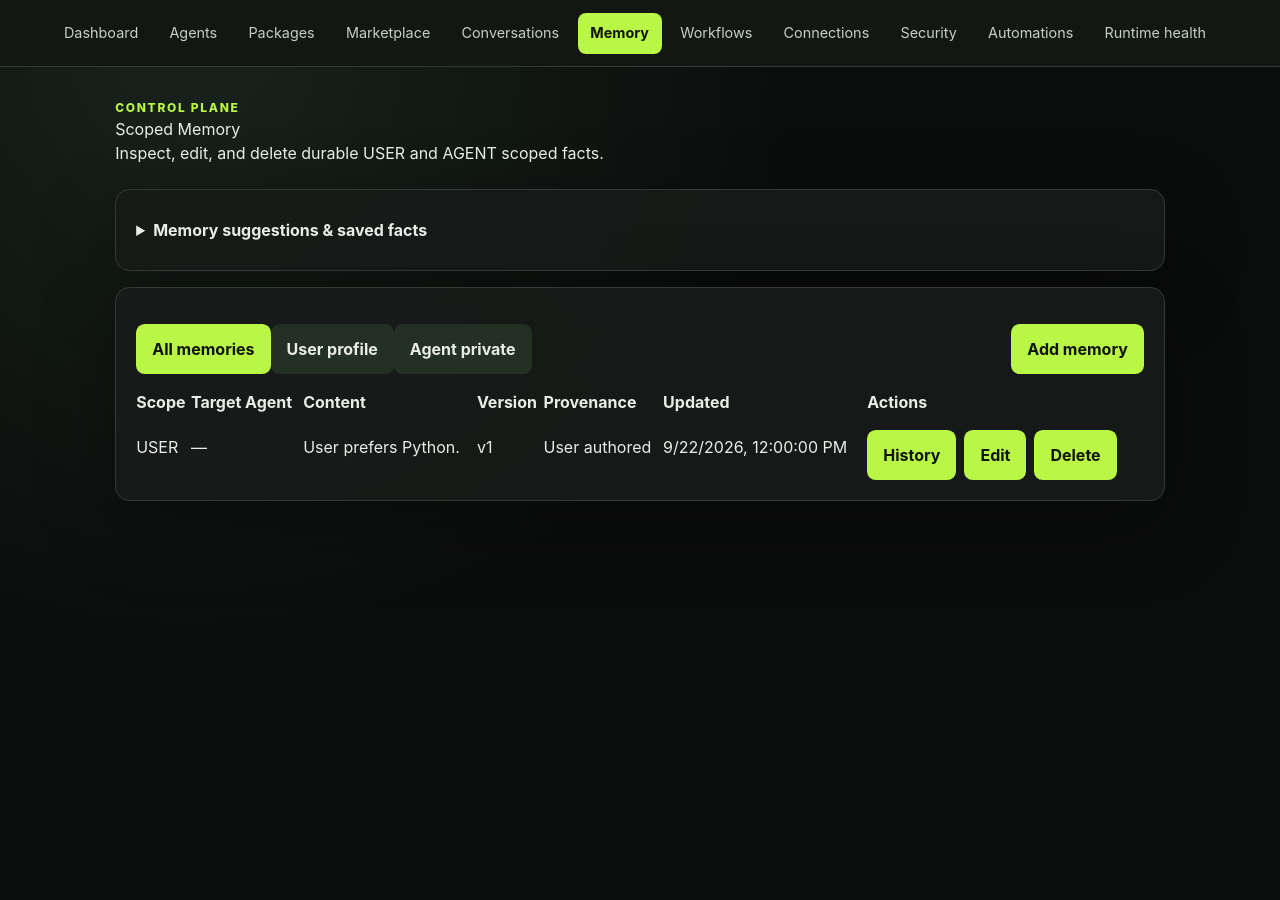
Test: memories page › opens edit modal and allows editing
Click the button "Edit" at (995, 455), box x1=964 y1=430 x2=1026 y2=480
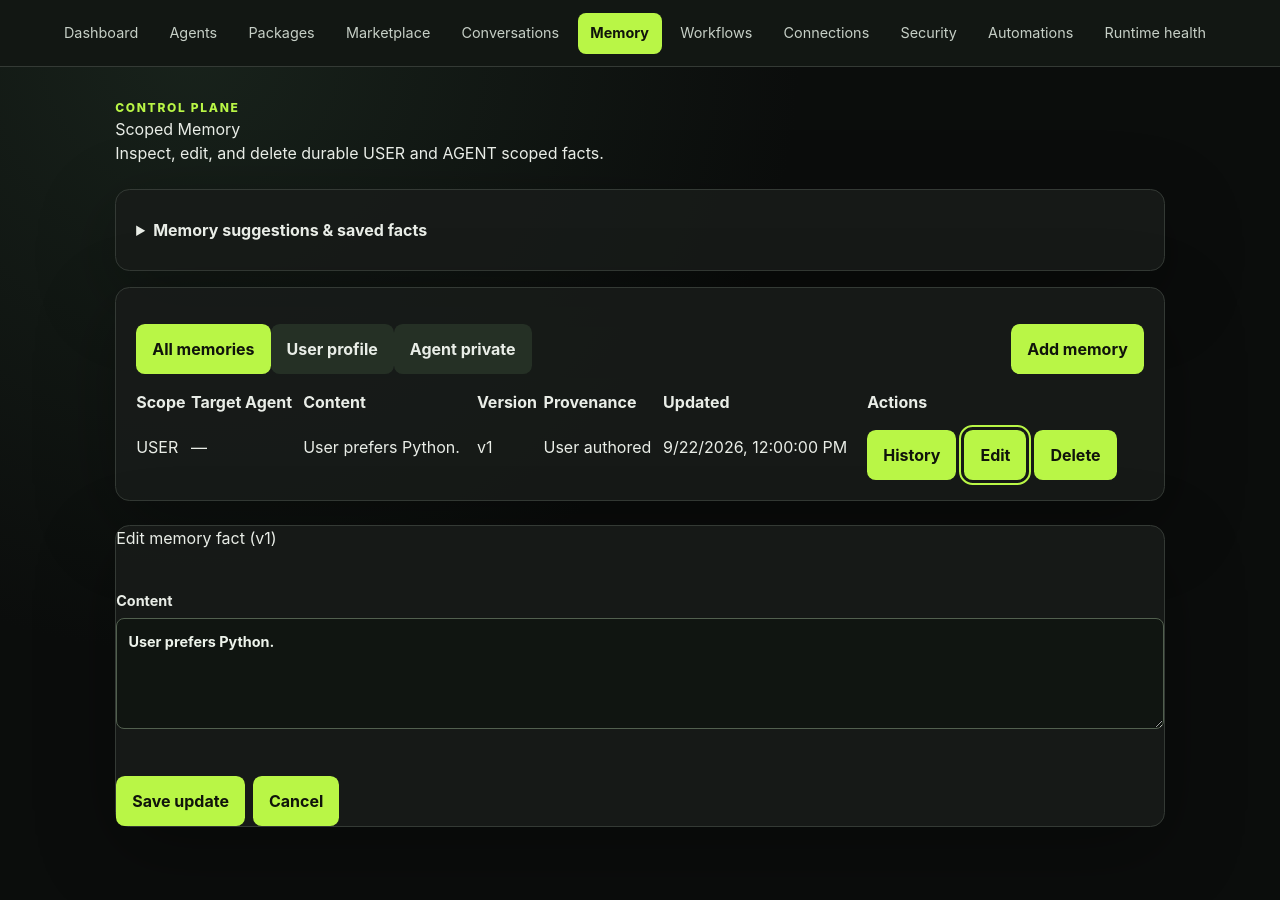
expect the heading "Edit memory fact (v1)" is shown: met, box x1=116 y1=528 x2=277 y2=548
expect the button "Save update" is shown: met, box x1=116 y1=776 x2=245 y2=826
